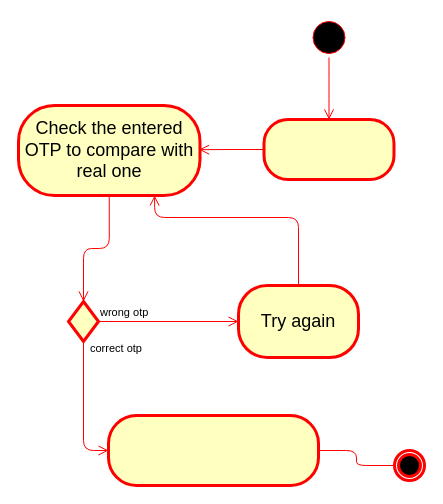
The diagram is 443 pixels wide and 504 high, and some of its shapes have lost their labels. The centre of each missing label's shape, as x and y in pixels:
"Request for OTP to enter" belongs at [328,149].
"set jwt tokens in cookie and route to home page" belongs at [213,450].
